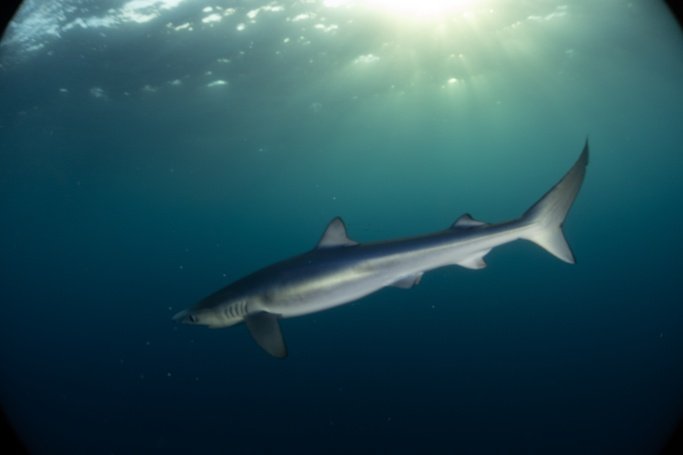Azul: (164, 132, 609, 372)
